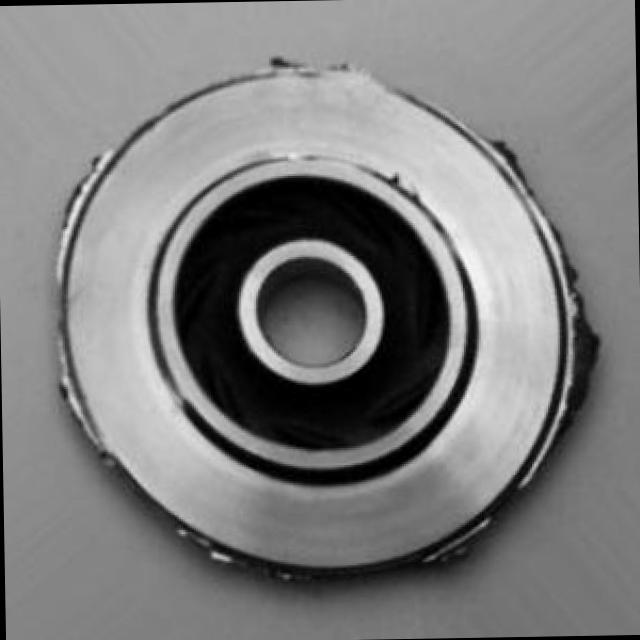Defect: (548, 266, 616, 412)
